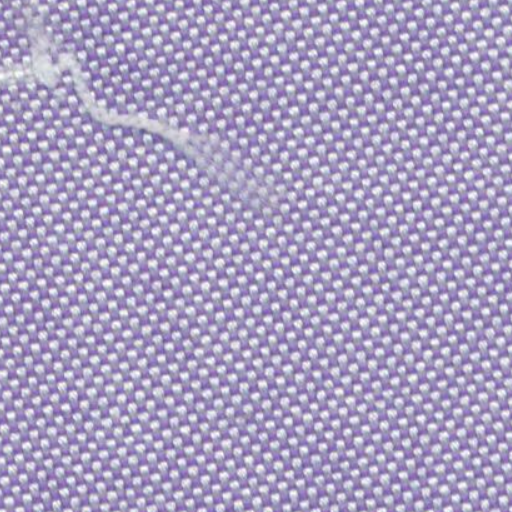DuanSha: (8, 10, 280, 206)
